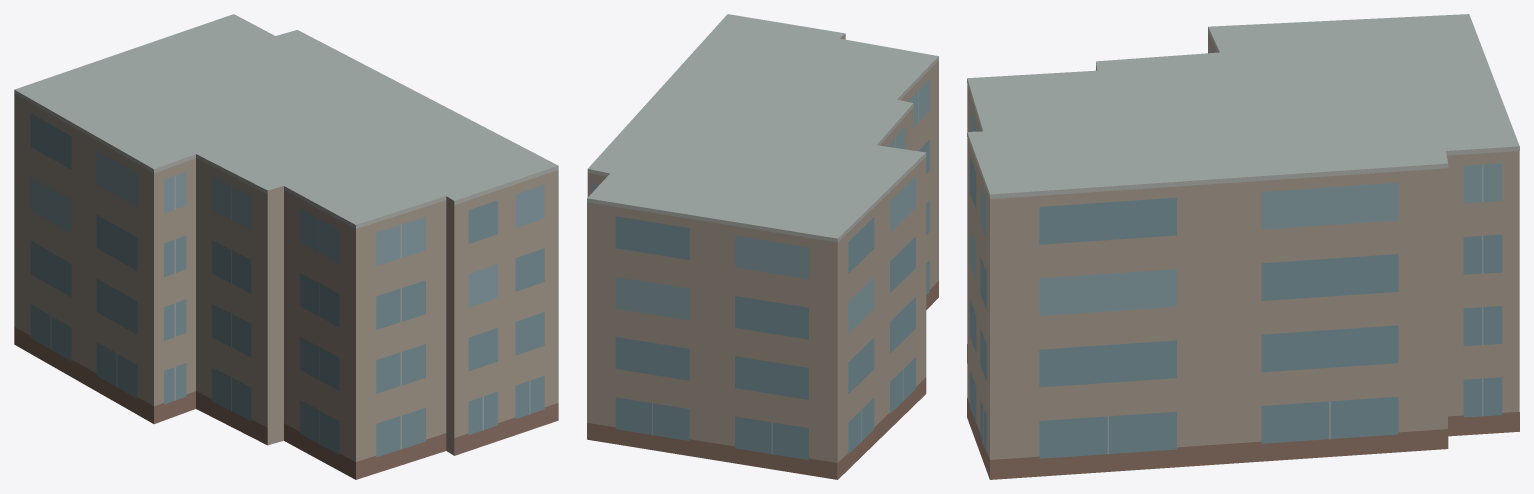
File: survey-upis-32950731.glb
The picture shows the model from 3 angles, left to right: view 1: azimuth 30°, elevation 25°; view 2: azimuth 150°, elevation 25°; view 3: azimuth 270°, elevation 25°; orthographic projection. The views are drawn at different scales.
Visible parts, largest first — view 1: survey-upis-32950731.tmp; view 2: survey-upis-32950731.tmp; view 3: survey-upis-32950731.tmp.
Boxes of the visible parts, x1,y1,x2,y2 form: survey-upis-32950731.tmp: (14,14,558,479); survey-upis-32950731.tmp: (587,14,938,479); survey-upis-32950731.tmp: (967,14,1519,479).
Bounding box in the file's own units: 20.22 × 14.9 × 26.16.
